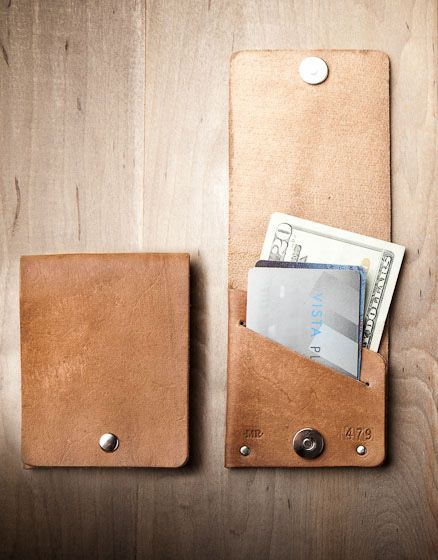cuero: (19, 50, 391, 469)
